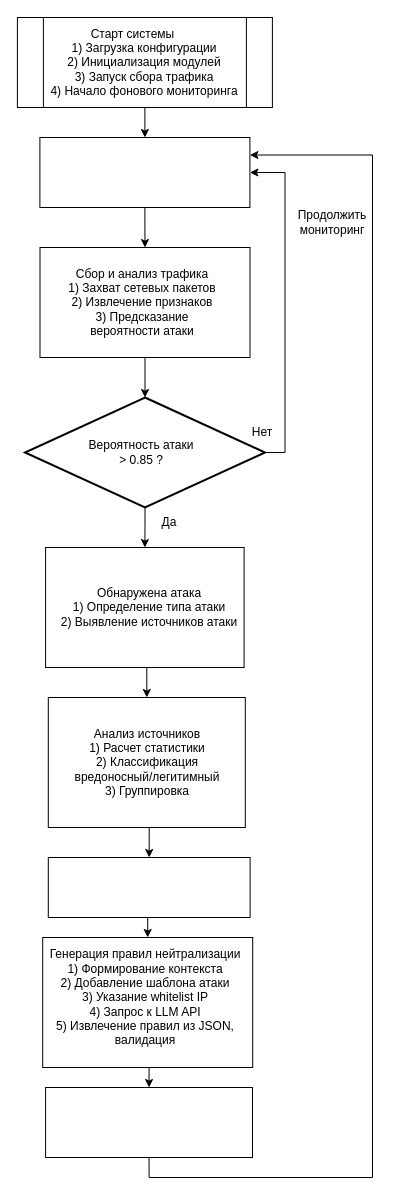
Some shapes in this 399 by 1203 pixel diagram are drawn without their labels. The centre of each missing label's shape, as x and y in pixels:
1) Применение правил к файрволу 2) Запись логов и метрик: point (148, 1122)
Классификация типа атаки: point (148, 887)
Получение следующего окна трафика для анализа: point (144, 172)
